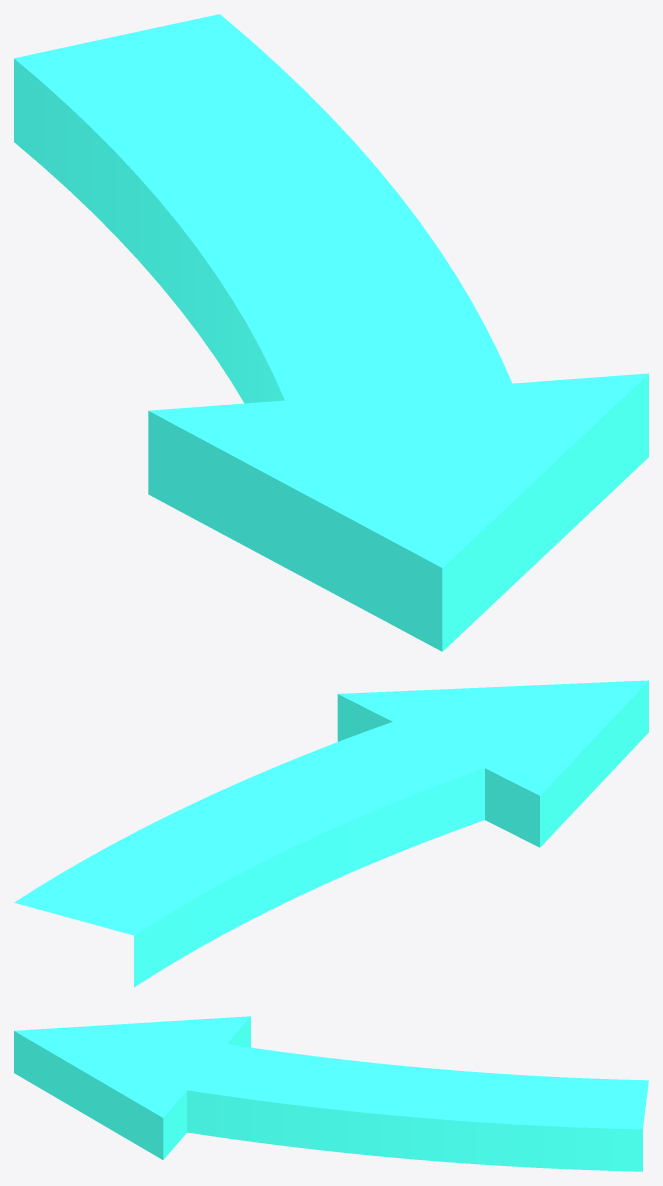
Rendered from handle_r_cw.glb.
3 renders of one model, top to bottom at view 1: azimuth 30°, elevation 25°; view 2: azimuth 150°, elevation 25°; view 3: azimuth 270°, elevation 25°, orthographic. The views are drawn at different scales.
Parts seen in each view (by area): view 1: handle_r_cw; view 2: handle_r_cw; view 3: handle_r_cw.
Part boxes in pixels (x1,y1,x2,y2): handle_r_cw: [14, 14, 648, 651]; handle_r_cw: [14, 680, 648, 987]; handle_r_cw: [14, 1016, 648, 1171].
Bounding box in the file's own units: 0.023 × 0.004 × 0.0545.
